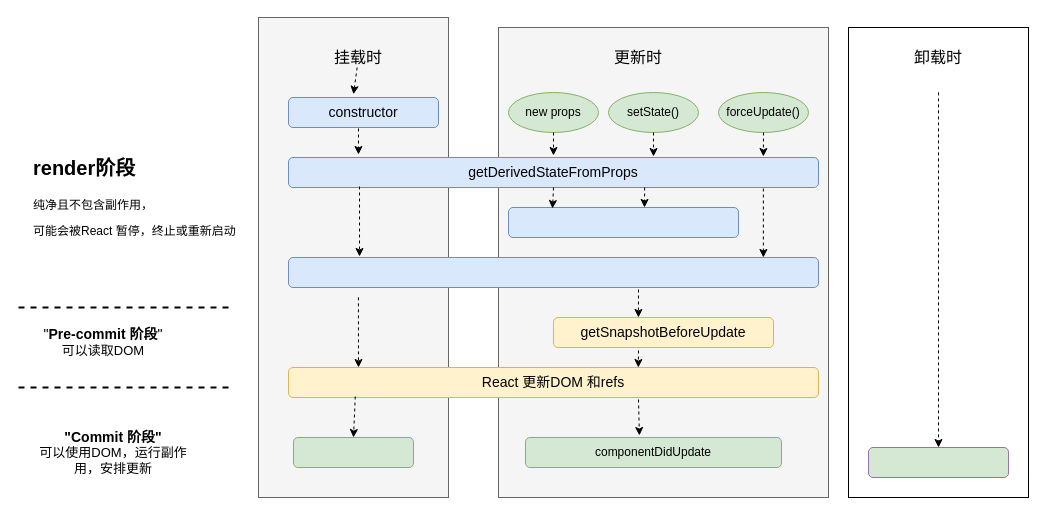
Some shapes in this 1046 by 515 pixel diagram are drawn without their labels. The shapes that lost their labels are listed below. From the top down, each one's centre as x and y in pixels, then its label:
At (x=623, y=222): "shouldComponentUpdate".
At (x=553, y=272): "render".
At (x=353, y=452): "componentDidMount".
At (x=938, y=462): "componentWillUnmount".
